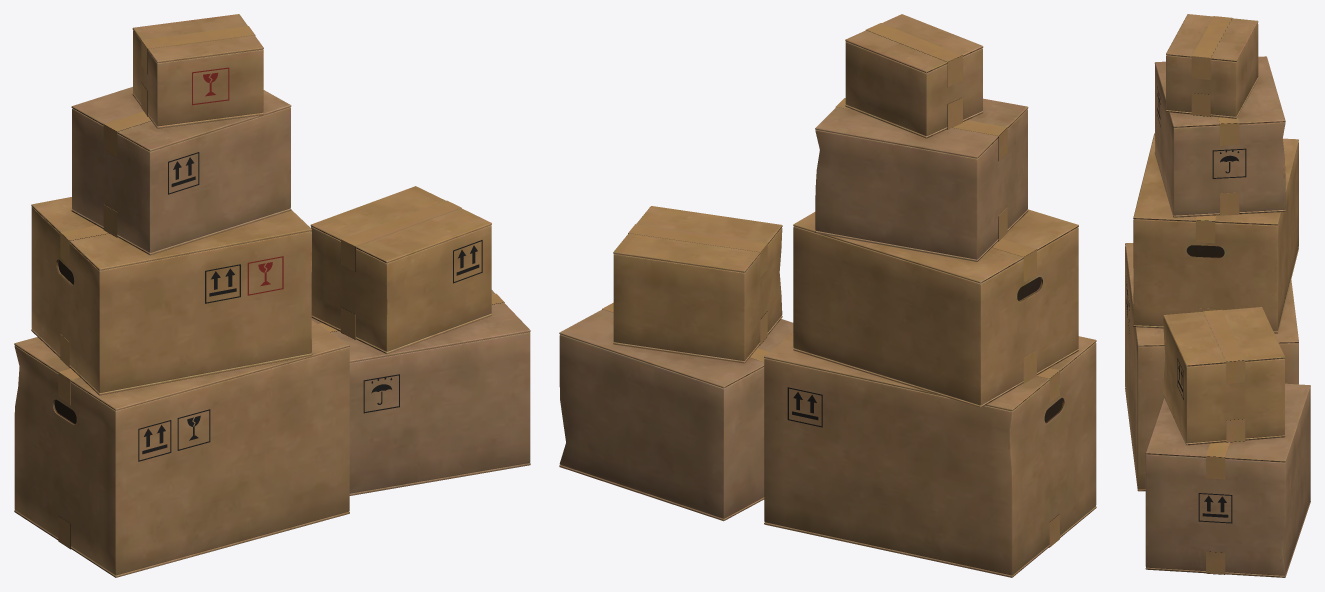
File: box_stack.glb
The picture shows the model from 3 angles, left to right: view 1: azimuth 30°, elevation 25°; view 2: azimuth 150°, elevation 25°; view 3: azimuth 270°, elevation 25°; orthographic projection. The views are drawn at different scales.
Visible parts, largest first — view 1: cardboard-box-stack_body, cardboard-box-stack_box_a_print, cardboard-box-stack_box_c_print; view 2: cardboard-box-stack_body; view 3: cardboard-box-stack_body, cardboard-box-stack_box_a_print.
Boxes of the visible parts, x1=… form: cardboard-box-stack_body: x1=14, y1=14, x2=530, y2=577; cardboard-box-stack_box_a_print: x1=138, y1=152, x2=482, y2=461; cardboard-box-stack_box_c_print: x1=192, y1=67, x2=283, y2=295; cardboard-box-stack_body: x1=559, y1=14, x2=1096, y2=577; cardboard-box-stack_body: x1=1125, y1=14, x2=1310, y2=577; cardboard-box-stack_box_a_print: x1=1126, y1=86, x2=1246, y2=523.
Size of the model in its own units: 1.13 by 1.12 by 0.4598.
3 materials, 1 textured.
